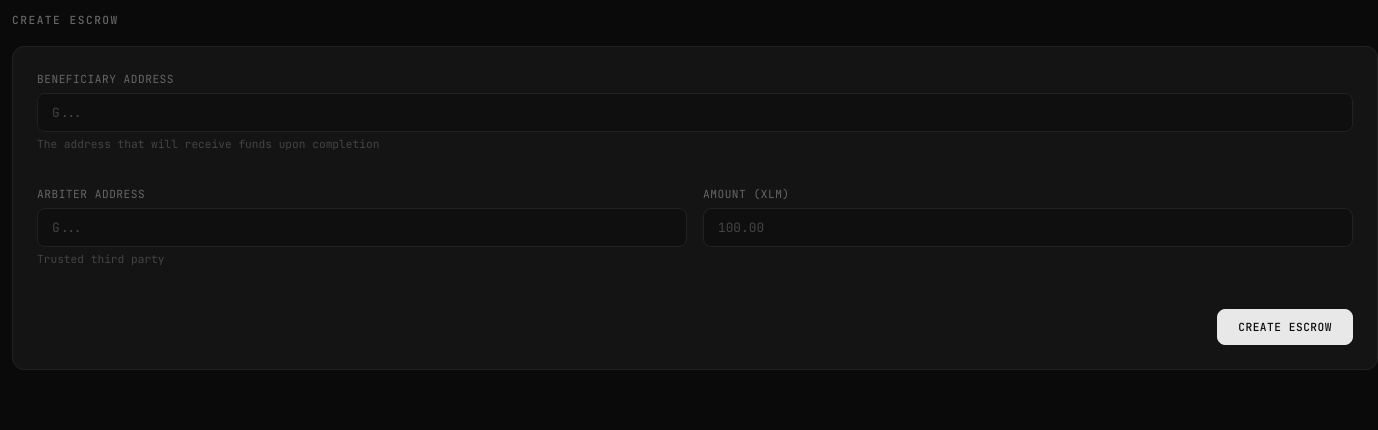
it: EscrowForm › shows validation errors for empty fields
Click the button "Create Escrow". click: (1285, 327)
box: [1217, 309, 1353, 345]
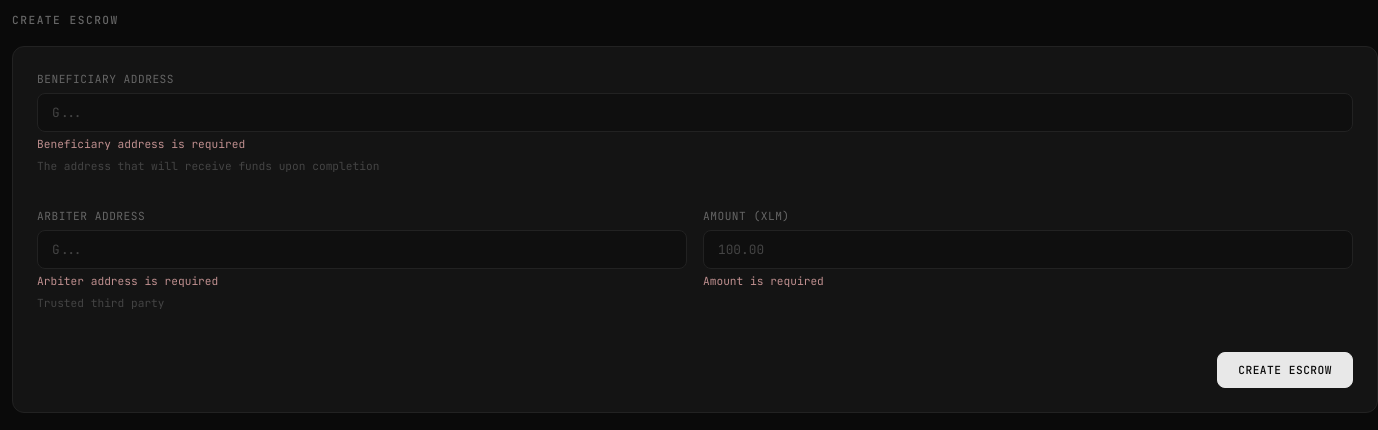
expect the text "Beneficiary address is required" is shown: met, box [37, 137, 245, 151]
expect the text "Arbiter address is required" is shown: met, box [37, 274, 218, 288]
expect the text "Amount is required" is shown: met, box [703, 274, 824, 288]
